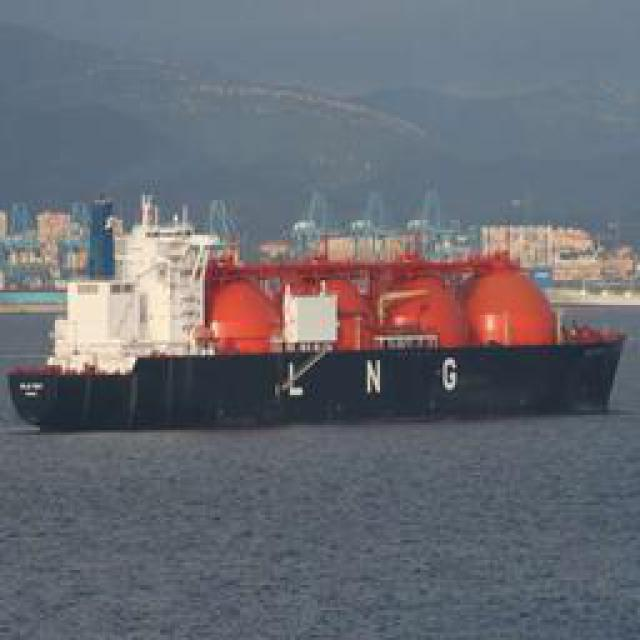Ship: (13, 201, 631, 426)
